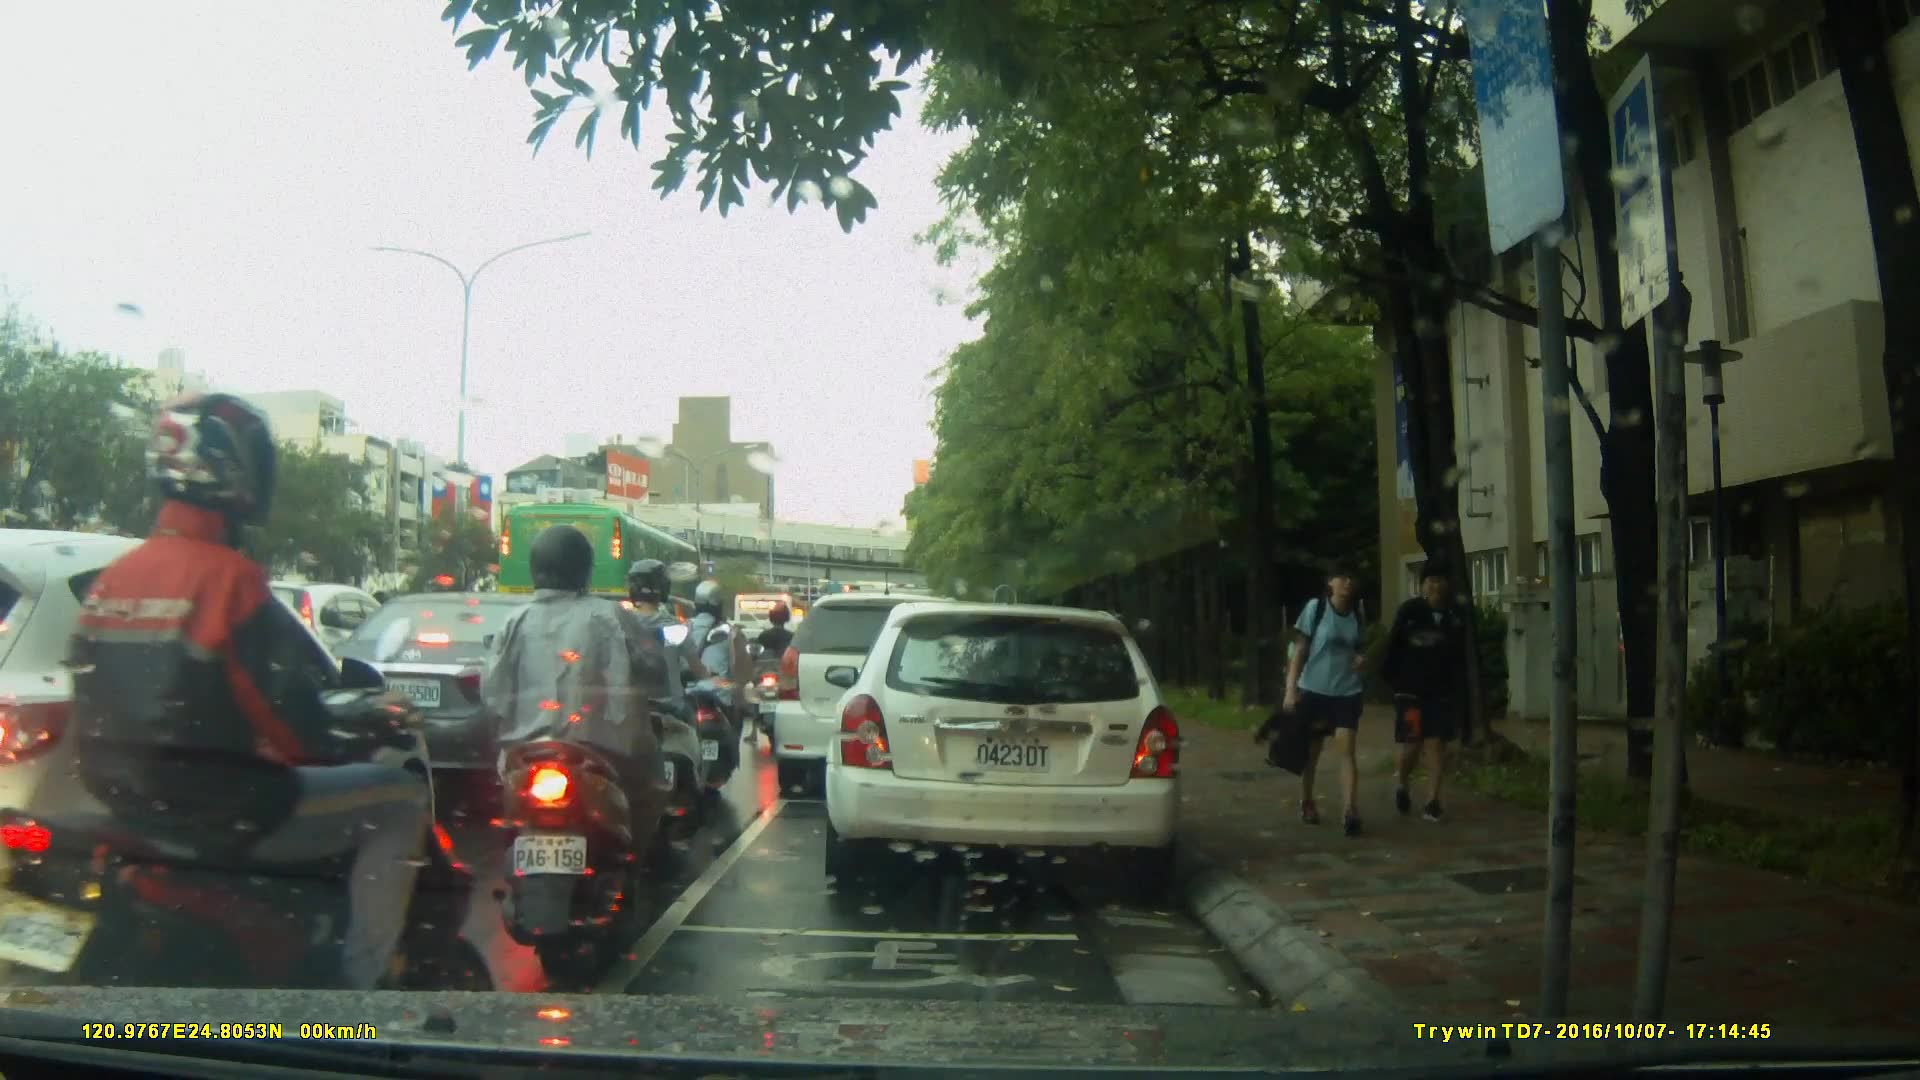pedestrian: (1269, 548, 1386, 838), (1393, 552, 1479, 827)
rider: (14, 392, 467, 1080), (481, 532, 691, 943), (597, 563, 714, 844), (673, 580, 752, 792), (752, 601, 804, 745)
vehicle: (1, 528, 451, 988), (831, 592, 1196, 897), (317, 590, 627, 791), (770, 591, 999, 803), (495, 500, 707, 636)
